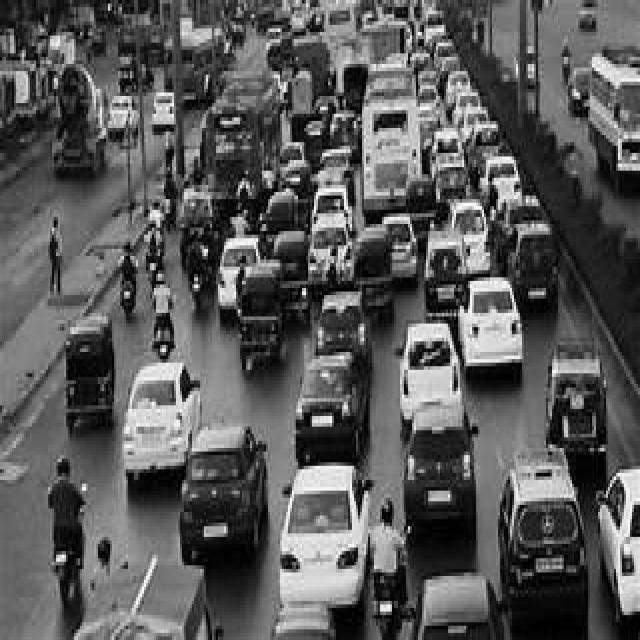Auto: (65, 316, 114, 432), (356, 231, 392, 319), (55, 551, 66, 566)
Bus: (202, 56, 279, 201), (361, 67, 421, 214), (590, 47, 640, 174)
Car: (276, 227, 554, 632), (501, 340, 606, 632), (122, 364, 268, 561), (122, 367, 268, 561), (280, 464, 371, 608), (219, 238, 310, 372), (295, 356, 369, 461), (428, 200, 490, 319), (595, 476, 640, 617), (415, 576, 495, 638), (386, 216, 418, 279)
